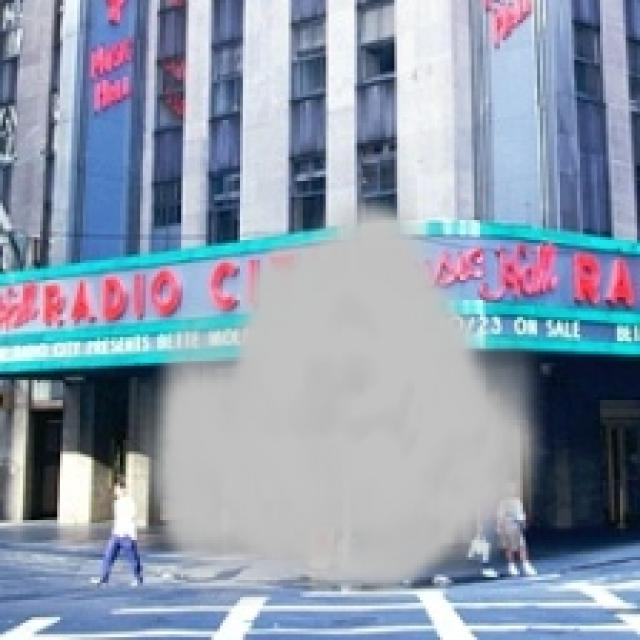smoke: (140, 188, 554, 606)
